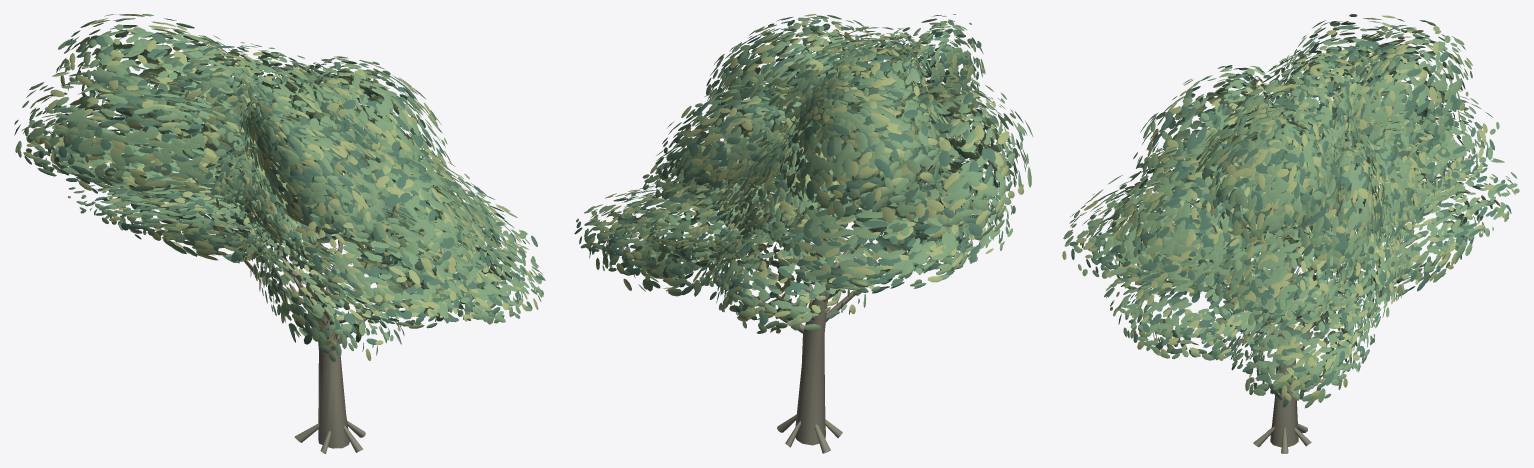
File: grove_7.glb
3 renders of one model, left to right at view 1: azimuth 30°, elevation 25°; view 2: azimuth 150°, elevation 25°; view 3: azimuth 270°, elevation 25°, orthographic. The views are drawn at different scales.
Parts seen in each view (by area): view 1: study_canopy_1_StudyLeafJade, study_canopy_1_StudyLeafDeep, study_canopy_1_StudyLeafGold, study_canopy_1_StudyBark; view 2: study_canopy_1_StudyLeafJade, study_canopy_1_StudyLeafDeep, study_canopy_1_StudyLeafGold, study_canopy_1_StudyBark; view 3: study_canopy_1_StudyLeafJade, study_canopy_1_StudyLeafDeep, study_canopy_1_StudyLeafGold, study_canopy_1_StudyBark.
Part boxes in pixels (bbox=[...]): study_canopy_1_StudyLeafJade: bbox=[17, 14, 545, 361]; study_canopy_1_StudyLeafDeep: bbox=[14, 18, 544, 353]; study_canopy_1_StudyLeafGold: bbox=[14, 14, 543, 360]; study_canopy_1_StudyBark: bbox=[169, 125, 435, 453]; study_canopy_1_StudyLeafJade: bbox=[576, 15, 1033, 333]; study_canopy_1_StudyLeafDeep: bbox=[574, 15, 1027, 325]; study_canopy_1_StudyLeafGold: bbox=[589, 14, 1023, 333]; study_canopy_1_StudyBark: bbox=[672, 84, 939, 453]; study_canopy_1_StudyLeafJade: bbox=[1063, 14, 1519, 408]; study_canopy_1_StudyLeafDeep: bbox=[1069, 18, 1511, 407]; study_canopy_1_StudyLeafGold: bbox=[1062, 15, 1515, 400]; study_canopy_1_StudyBark: bbox=[1172, 106, 1405, 453].
Size of the model in its own units: 10.65 by 9.07 by 10.59.
